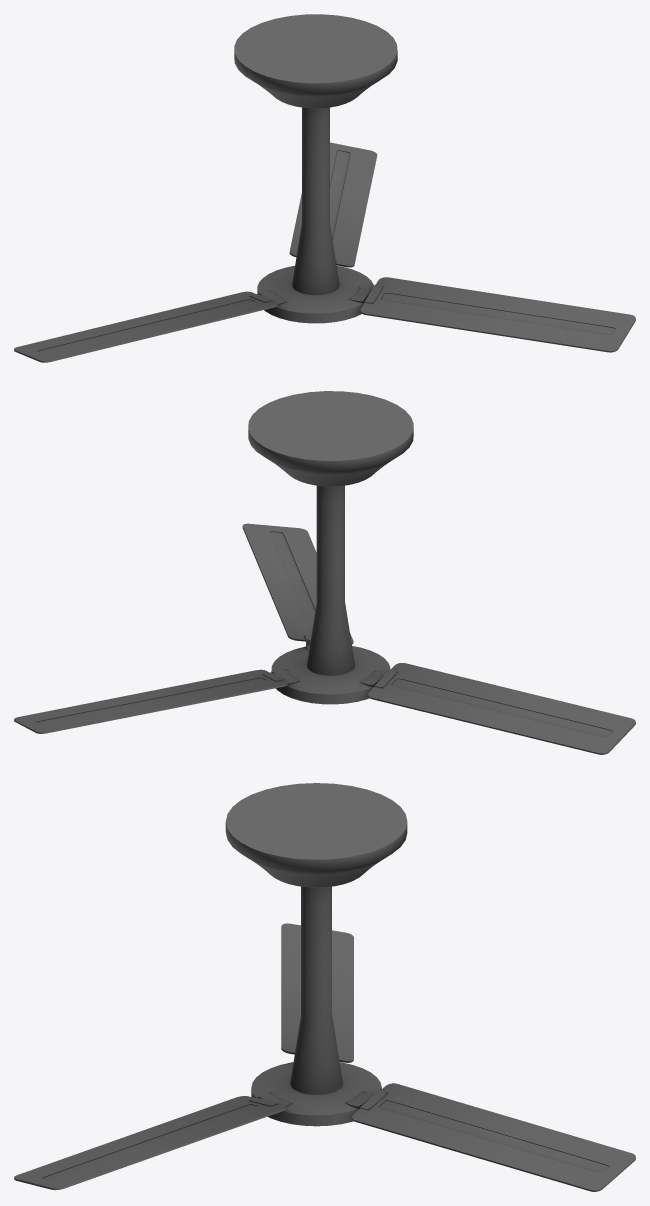
File: wiatraczysko.fbx
3 views of the same model, one above another, from view 1: azimuth 30°, elevation 25°; view 2: azimuth 150°, elevation 25°; view 3: azimuth 270°, elevation 25° (orthographic). The views are drawn at different scales.
Parts seen in each view (by area): view 1: Walec; view 2: Walec; view 3: Walec.
Boxes of the visible parts, x1=… form: Walec: x1=14, y1=14, x2=635, y2=362; Walec: x1=14, y1=391, x2=635, y2=754; Walec: x1=14, y1=783, x2=635, y2=1191.
Bounding box in the file's own units: 206 × 100 × 204.
